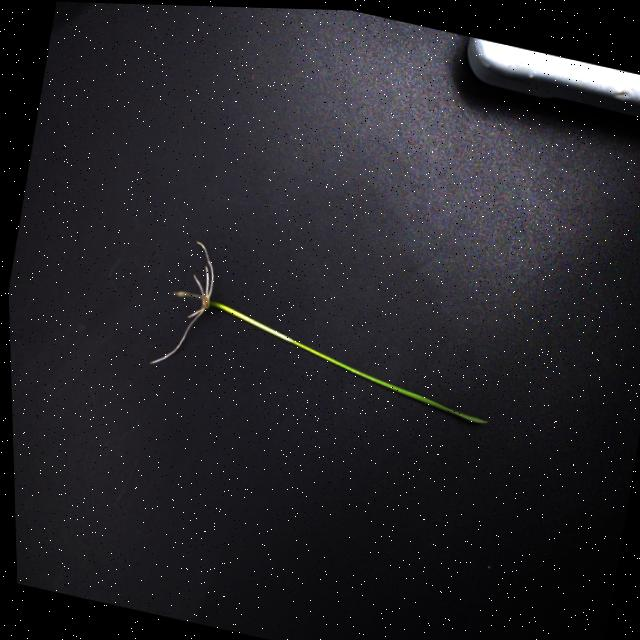leaf: (291, 337, 489, 427)
root: (145, 238, 217, 364)
steb: (208, 299, 293, 344)
